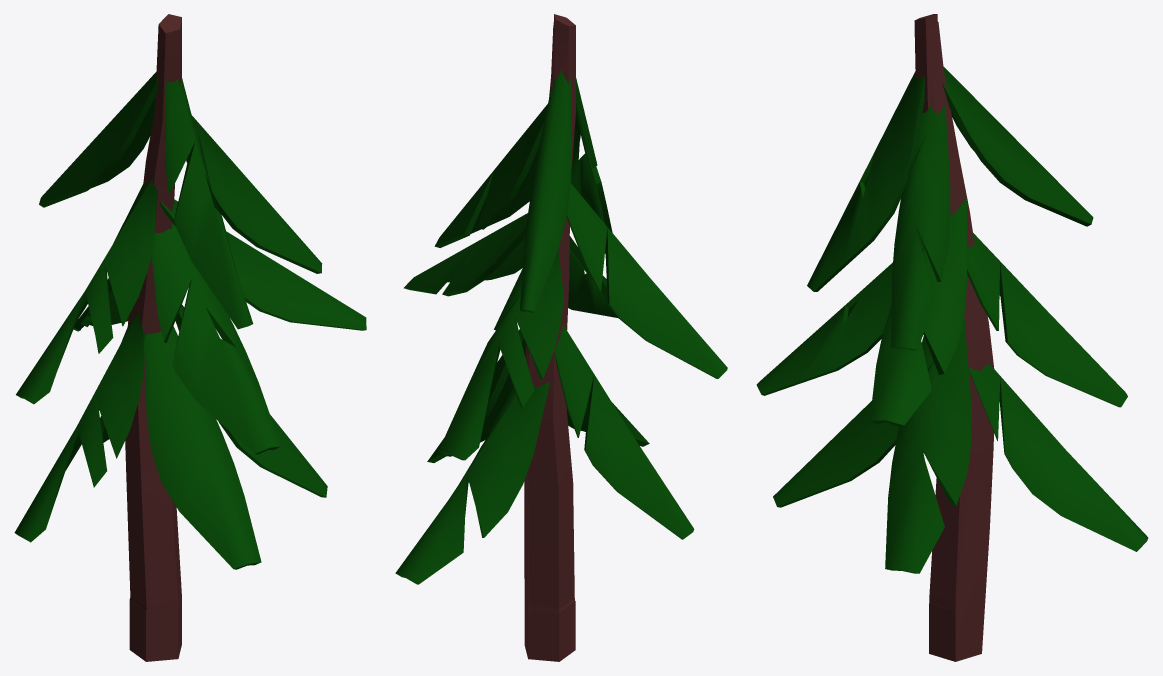
The model's file is TreeWithLeaf2.fbx.
The picture shows the model from 3 angles, left to right: view 1: azimuth 30°, elevation 25°; view 2: azimuth 150°, elevation 25°; view 3: azimuth 270°, elevation 25°; orthographic projection. The views are drawn at different scales.
Parts seen in each view (by area): view 1: TreeWithLeaf; view 2: TreeWithLeaf; view 3: TreeWithLeaf.
Part boxes in pixels (x1,y1,x2,y2): TreeWithLeaf: (14, 14, 366, 661); TreeWithLeaf: (395, 14, 727, 661); TreeWithLeaf: (756, 14, 1148, 661).
Bounding box in the file's own units: 3.44 × 6.31 × 3.52.
